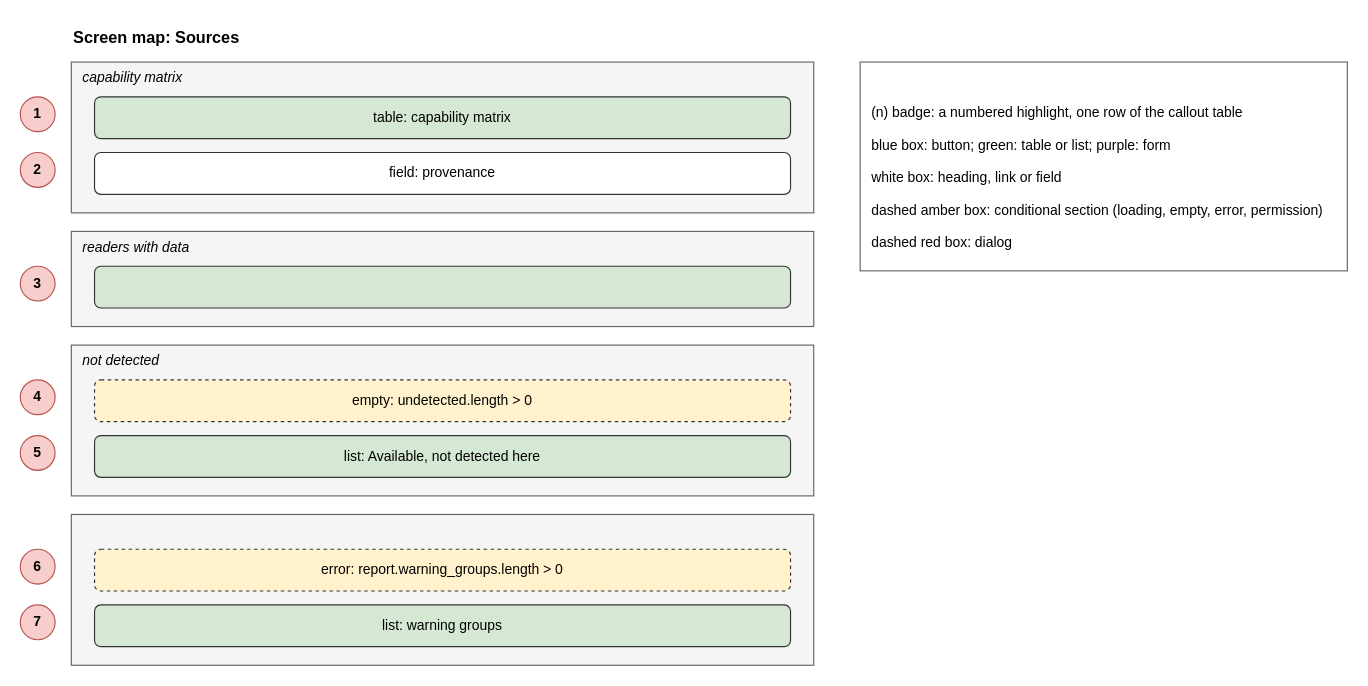
This 1368x686 diagram has some shape labels left out. The box of each missing label's shape, as (x1, y1, x2, y2) in pixels:
Legend: (859, 61, 1347, 271)
list: reader detail: (93, 265, 791, 308)
scan warnings: (70, 513, 814, 665)
